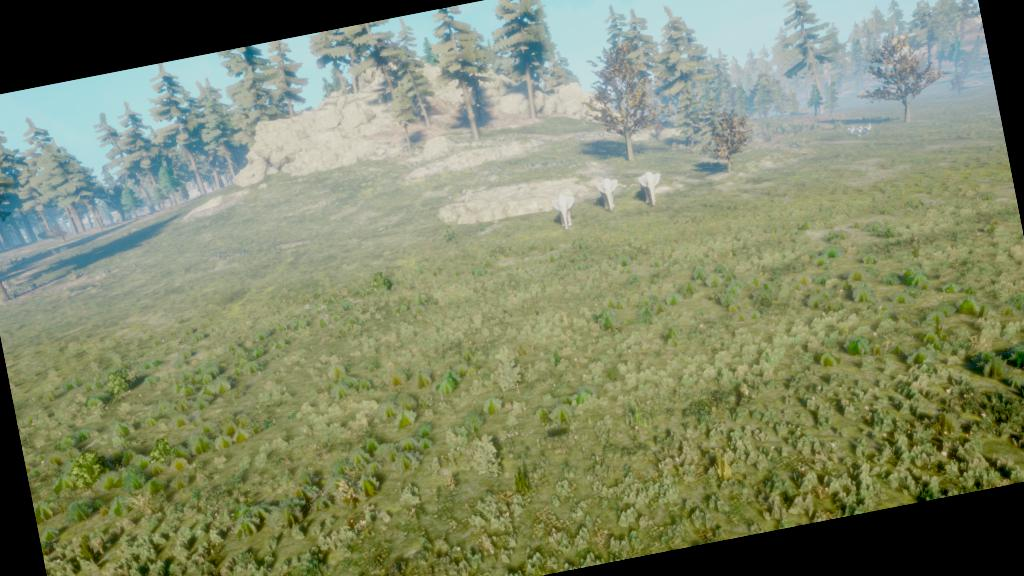elephant: (537, 179, 590, 241), (628, 162, 678, 219), (586, 168, 628, 219)
